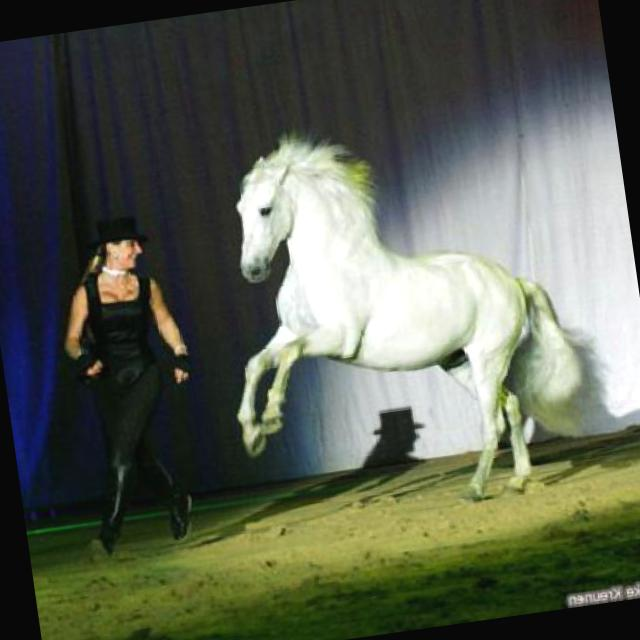Person: (39, 210, 219, 564)
